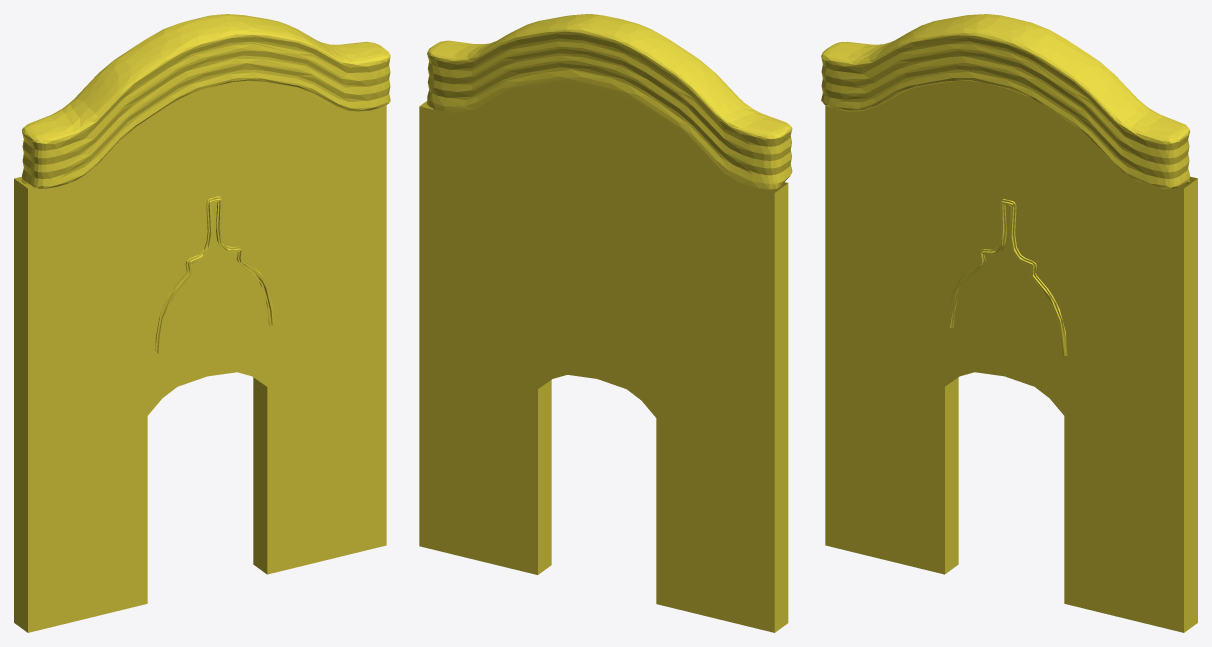
Rendered from PortariaPrincipal.Low.fbx.
3 views of the same model, side by side, from view 1: azimuth 30°, elevation 25°; view 2: azimuth 150°, elevation 25°; view 3: azimuth 330°, elevation 25° (orthographic).
Parts seen in each view (by area): view 1: PortariaPrincipal.Low; view 2: PortariaPrincipal.Low; view 3: PortariaPrincipal.Low.
Part boxes in pixels (<box>): PortariaPrincipal.Low: <box>14,14,390,632</box>; PortariaPrincipal.Low: <box>419,14,792,632</box>; PortariaPrincipal.Low: <box>821,14,1197,632</box>.
Bounding box in the file's own units: 600 × 899 × 71.22.
